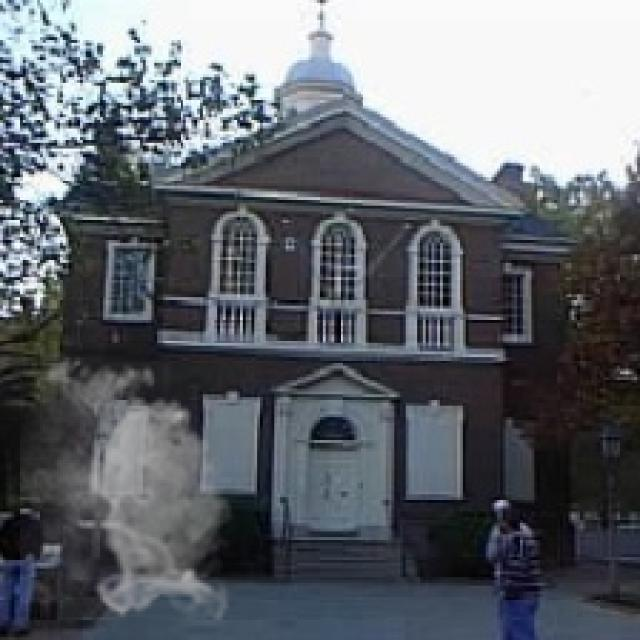smoke: (20, 349, 240, 620)
